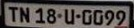character: (63, 7, 74, 24), (18, 6, 29, 22), (81, 9, 92, 24), (8, 6, 18, 22), (93, 9, 103, 25), (104, 9, 114, 25), (115, 9, 125, 25), (46, 8, 56, 23), (35, 7, 44, 23)
